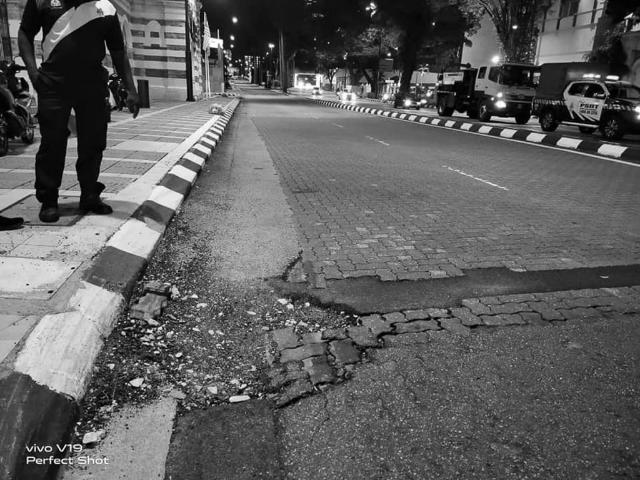Pothole: (121, 282, 379, 406)
